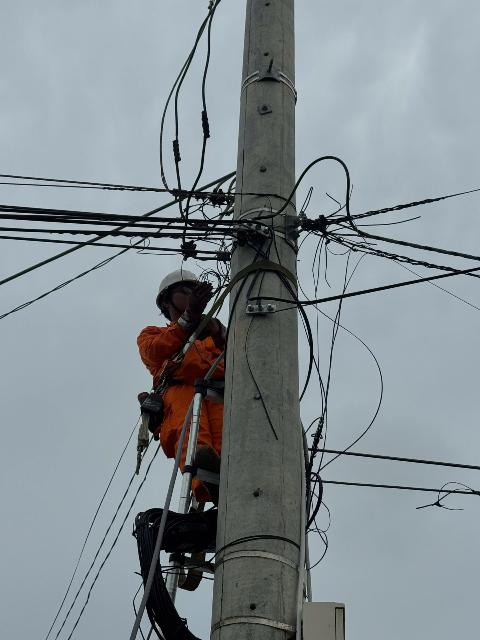gloves: (172, 282, 217, 325), (198, 310, 226, 346)
helmet: (142, 264, 209, 303)
shoes: (192, 440, 239, 512)
